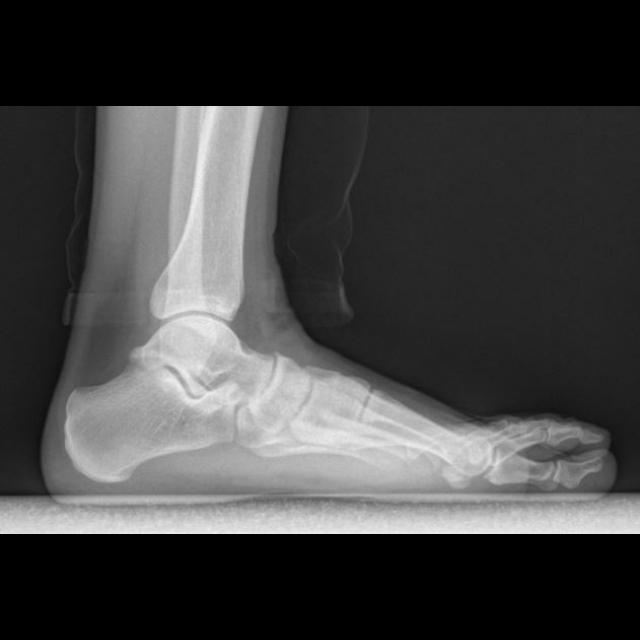a: (65, 317, 254, 482)
b: (248, 355, 311, 432)
c: (347, 386, 494, 476)
